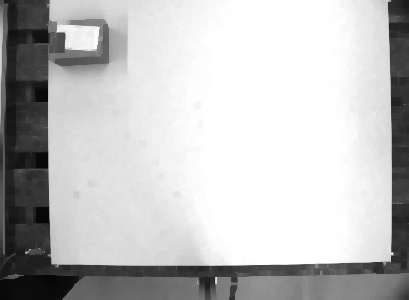b6: (44, 15, 111, 69)
